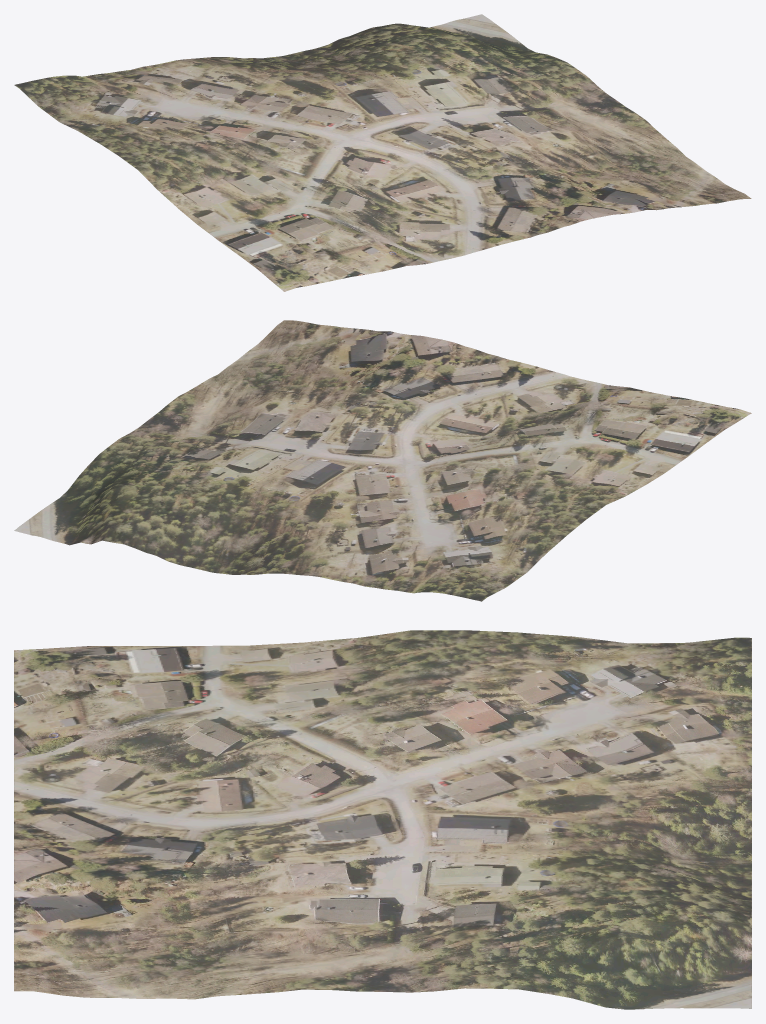
File: CM_Terrain_24493121_6815084.fbx
3 views of the same model, one above another, from view 1: azimuth 30°, elevation 25°; view 2: azimuth 150°, elevation 25°; view 3: azimuth 270°, elevation 25° (orthographic). The views are drawn at different scales.
Parts seen in each view (by area): view 1: CM_Terrain_24493121_6815084_LOD0; view 2: CM_Terrain_24493121_6815084_LOD0; view 3: CM_Terrain_24493121_6815084_LOD0.
Part boxes in pixels (x1,y1,x2,y2): CM_Terrain_24493121_6815084_LOD0: (14, 14, 751, 291); CM_Terrain_24493121_6815084_LOD0: (14, 320, 751, 601); CM_Terrain_24493121_6815084_LOD0: (14, 630, 751, 1009).
Size of what is drawn, in the model's own units: 205 by 20.94 by 205.
